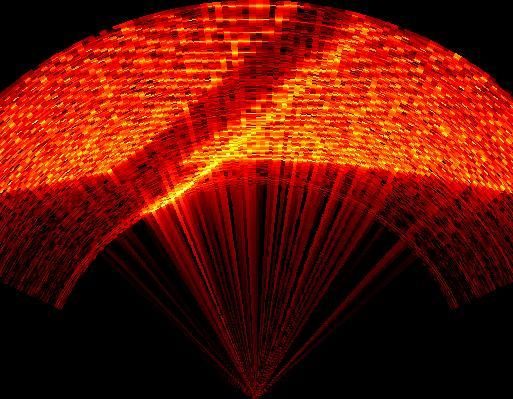pipe: (109, 4, 358, 211)
